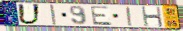9: (69, 5, 89, 26)
E: (89, 6, 114, 26)
H: (140, 6, 165, 28)
I: (49, 4, 58, 26), (125, 6, 134, 27)
U: (17, 3, 42, 26)
